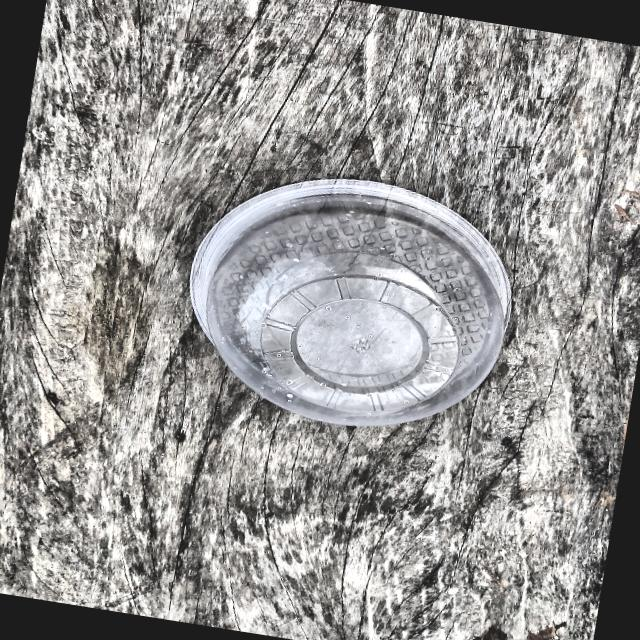plastic container: (137, 140, 546, 458)
